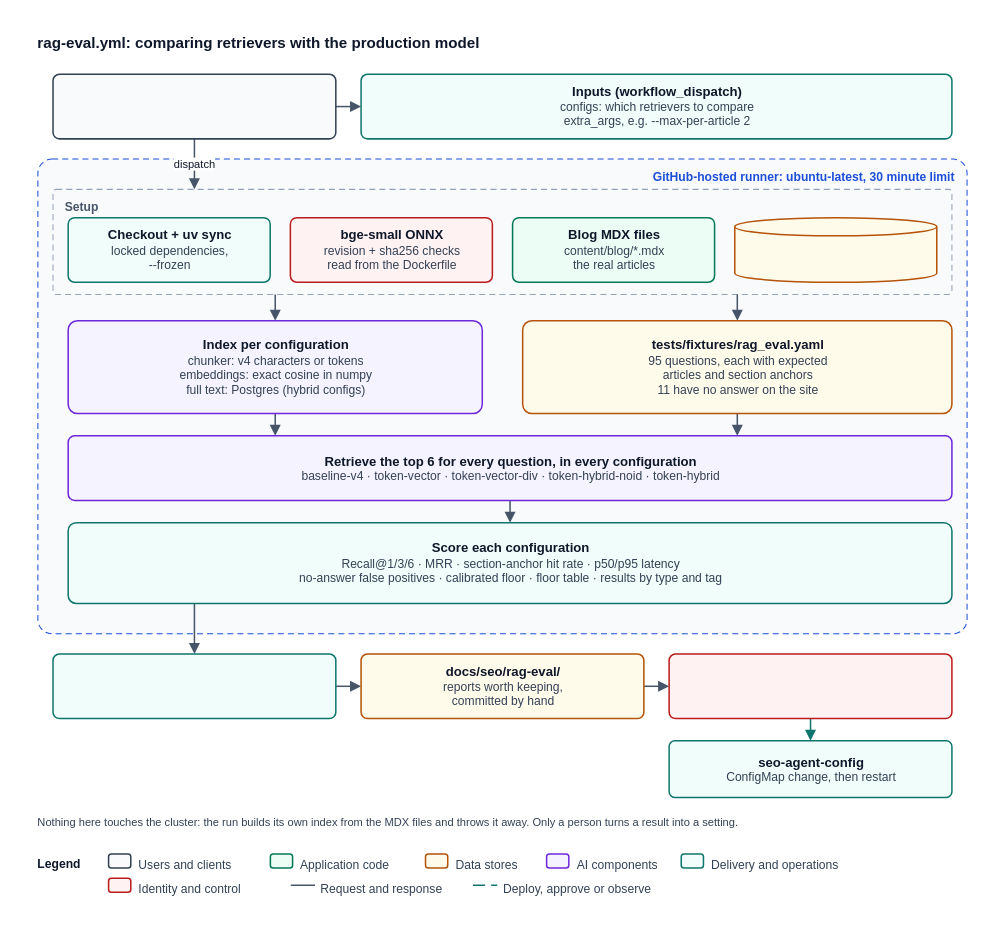
The diagram is 1004 pixels wide and 927 high, and some of its shapes have lost their labels. The shapes that lost their labels are listed below. From the top down, each one's centre as x and y in pixels, then its label:
[194,106]: Manual run Actions → RAG eval (manual)
[835,249]: pgvector service pg18, scratch database
[194,686]: Job summary a report per configuration and one comparison table
[810,686]: A person decides RAG_MODE, max per article, ASK_BLOG_MIN_SCORE
